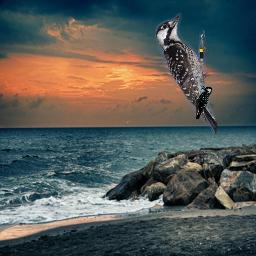Woodpecker: (155, 13, 218, 134), (193, 85, 213, 119)
